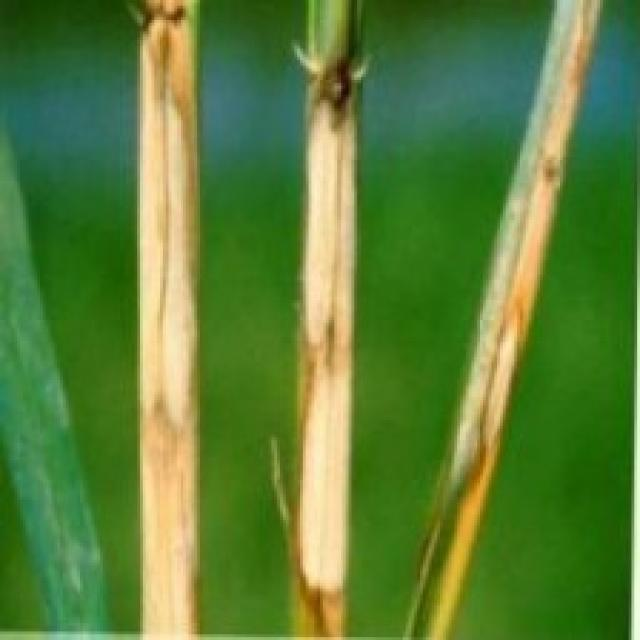Bacterial_Blight: (109, 7, 237, 640), (420, 57, 549, 640), (270, 96, 370, 620)
